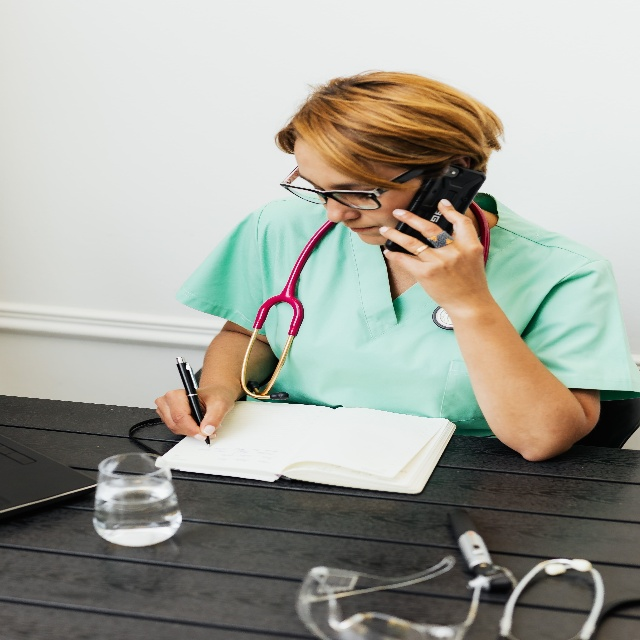Gafas: (279, 165, 423, 209)
Sin_guantes: (379, 187, 489, 321), (154, 379, 236, 445)
